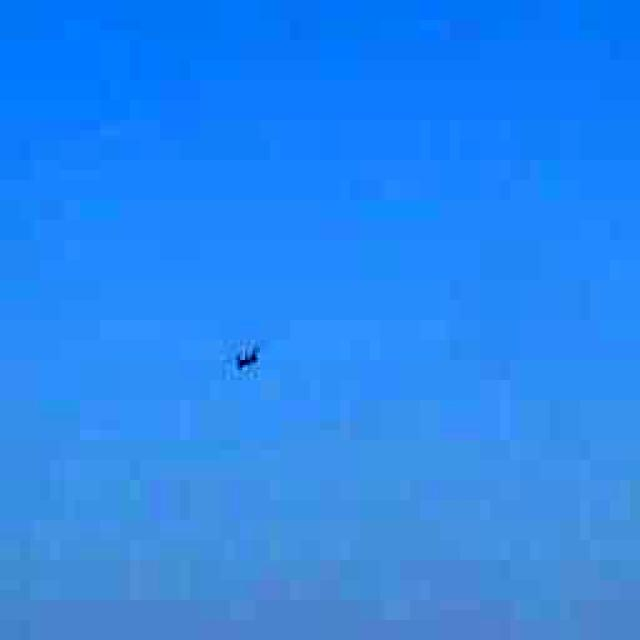bird: (214, 335, 276, 385)
